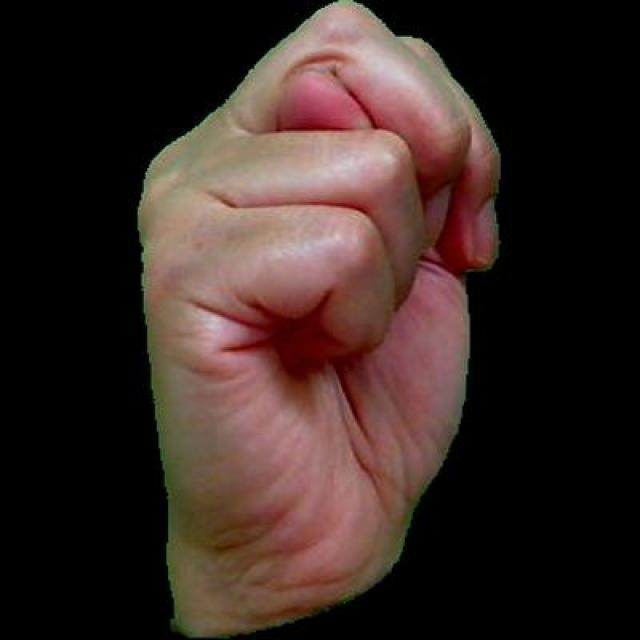n: (125, 0, 510, 637)
